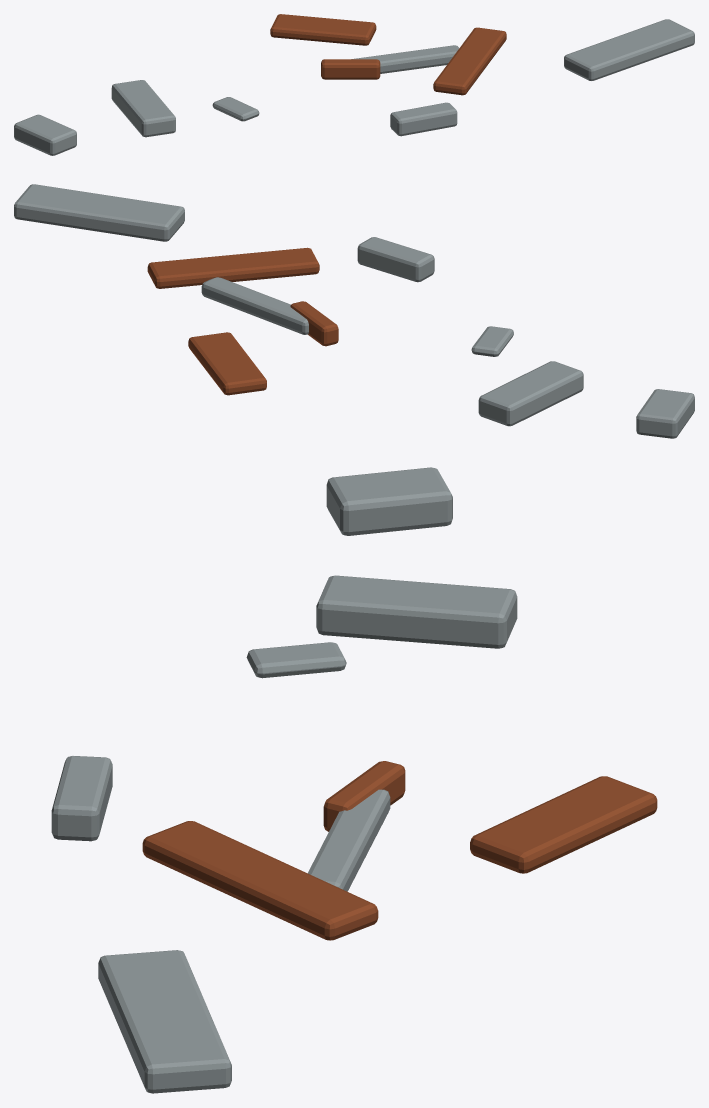
Rendered from SM_FC01_Prop_FloatingDebris_A.fbx.
The picture shows the model from 3 angles, top to bottom: view 1: azimuth 30°, elevation 25°; view 2: azimuth 150°, elevation 25°; view 3: azimuth 270°, elevation 25°; orthographic projection. The views are drawn at different scales.
Parts seen in each view (by area): view 1: SM_FC01_Prop_FloatingDebris_A_Piece_07, SM_FC01_Prop_FloatingDebris_A_Piece_03, SM_FC01_Prop_FloatingDebris_A_Piece_06, SM_FC01_Prop_FloatingDebris_A_Piece_01, SM_FC01_Prop_FloatingDebris_A_Piece_04, SM_FC01_Prop_FloatingDebris_A_Piece_02, SM_FC01_Prop_FloatingDebris_A_Piece_05, SM_FC01_Prop_FloatingDebris_A_Piece_00, SM_FC01_Prop_FloatingDebris_A_Piece_08; view 2: SM_FC01_Prop_FloatingDebris_A_Piece_07, SM_FC01_Prop_FloatingDebris_A_Piece_03, SM_FC01_Prop_FloatingDebris_A_Piece_01, SM_FC01_Prop_FloatingDebris_A_Piece_06, SM_FC01_Prop_FloatingDebris_A_Piece_05, SM_FC01_Prop_FloatingDebris_A_Piece_02, SM_FC01_Prop_FloatingDebris_A_Piece_04, SM_FC01_Prop_FloatingDebris_A_Piece_00, SM_FC01_Prop_FloatingDebris_A_Piece_08; view 3: SM_FC01_Prop_FloatingDebris_A_Piece_07, SM_FC01_Prop_FloatingDebris_A_Piece_01, SM_FC01_Prop_FloatingDebris_A_Piece_03, SM_FC01_Prop_FloatingDebris_A_Piece_06, SM_FC01_Prop_FloatingDebris_A_Piece_04, SM_FC01_Prop_FloatingDebris_A_Piece_02, SM_FC01_Prop_FloatingDebris_A_Piece_05, SM_FC01_Prop_FloatingDebris_A_Piece_08, SM_FC01_Prop_FloatingDebris_A_Piece_00.
Boxes of the visible parts, bbox=[...] form: SM_FC01_Prop_FloatingDebris_A_Piece_07: bbox=[564, 19, 694, 80]; SM_FC01_Prop_FloatingDebris_A_Piece_03: bbox=[433, 27, 506, 95]; SM_FC01_Prop_FloatingDebris_A_Piece_06: bbox=[270, 14, 376, 45]; SM_FC01_Prop_FloatingDebris_A_Piece_01: bbox=[111, 80, 175, 137]; SM_FC01_Prop_FloatingDebris_A_Piece_04: bbox=[14, 114, 76, 155]; SM_FC01_Prop_FloatingDebris_A_Piece_02: bbox=[390, 102, 457, 136]; SM_FC01_Prop_FloatingDebris_A_Piece_05: bbox=[351, 45, 459, 73]; SM_FC01_Prop_FloatingDebris_A_Piece_00: bbox=[321, 59, 380, 79]; SM_FC01_Prop_FloatingDebris_A_Piece_08: bbox=[212, 97, 259, 121]; SM_FC01_Prop_FloatingDebris_A_Piece_07: bbox=[14, 184, 184, 241]; SM_FC01_Prop_FloatingDebris_A_Piece_03: bbox=[147, 247, 319, 288]; SM_FC01_Prop_FloatingDebris_A_Piece_01: bbox=[478, 361, 583, 426]; SM_FC01_Prop_FloatingDebris_A_Piece_06: bbox=[188, 332, 266, 395]; SM_FC01_Prop_FloatingDebris_A_Piece_05: bbox=[201, 277, 308, 334]; SM_FC01_Prop_FloatingDebris_A_Piece_02: bbox=[357, 237, 434, 282]; SM_FC01_Prop_FloatingDebris_A_Piece_04: bbox=[636, 389, 694, 438]; SM_FC01_Prop_FloatingDebris_A_Piece_00: bbox=[290, 301, 338, 346]; SM_FC01_Prop_FloatingDebris_A_Piece_08: bbox=[471, 326, 513, 356]; SM_FC01_Prop_FloatingDebris_A_Piece_07: bbox=[98, 950, 231, 1093]; SM_FC01_Prop_FloatingDebris_A_Piece_01: bbox=[316, 575, 517, 648]; SM_FC01_Prop_FloatingDebris_A_Piece_03: bbox=[142, 821, 378, 940]; SM_FC01_Prop_FloatingDebris_A_Piece_06: bbox=[470, 776, 657, 873]; SM_FC01_Prop_FloatingDebris_A_Piece_04: bbox=[326, 467, 452, 535]; SM_FC01_Prop_FloatingDebris_A_Piece_02: bbox=[51, 756, 112, 841]; SM_FC01_Prop_FloatingDebris_A_Piece_05: bbox=[307, 789, 390, 891]; SM_FC01_Prop_FloatingDebris_A_Piece_08: bbox=[246, 642, 346, 678]; SM_FC01_Prop_FloatingDebris_A_Piece_00: bbox=[323, 761, 405, 831].
Bounding box in the file's own units: 3.8 × 0.1271 × 1.64.
